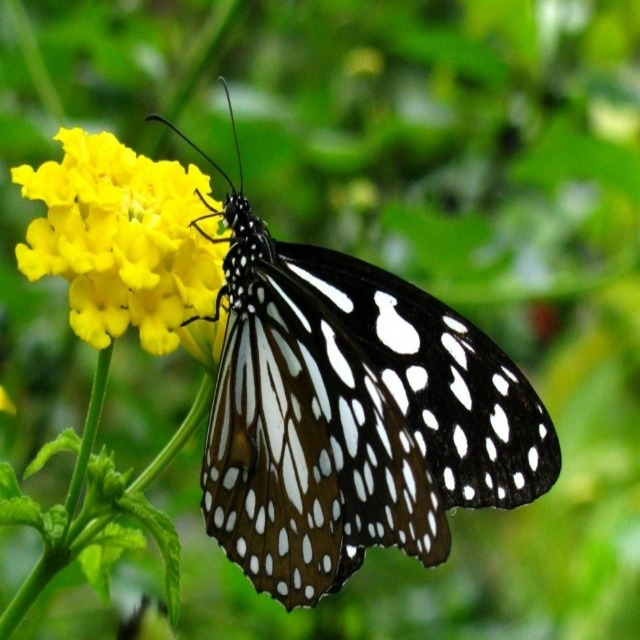Butterfly: (144, 74, 563, 616)
